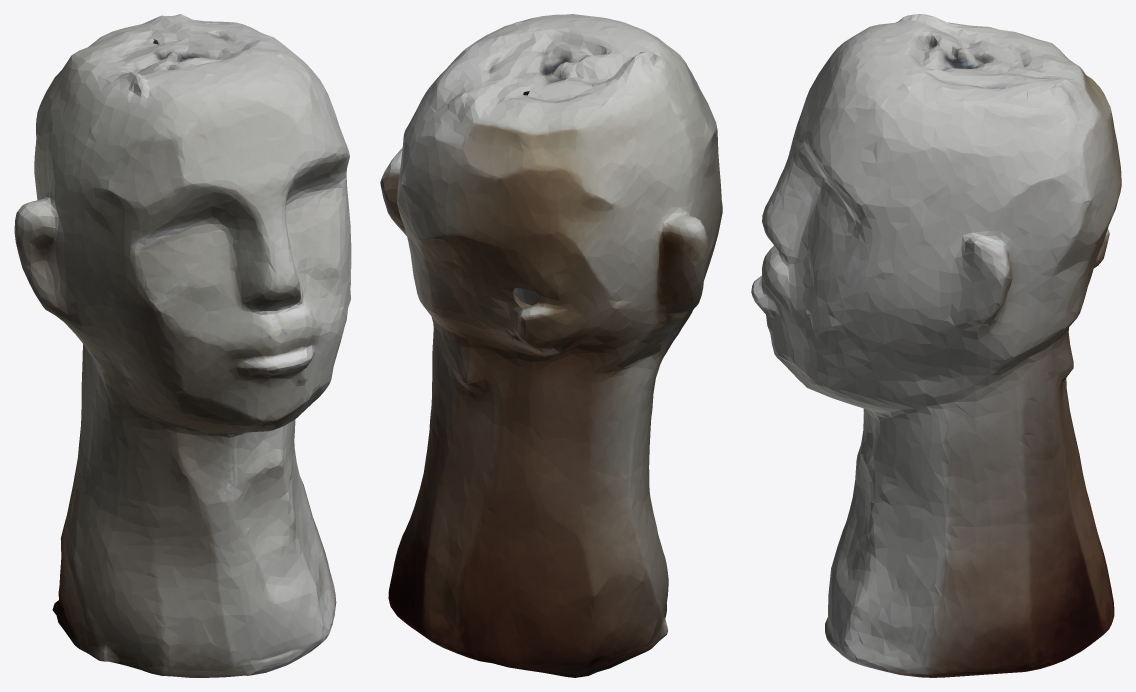
3 views of the same model, side by side, from view 1: azimuth 30°, elevation 25°; view 2: azimuth 150°, elevation 25°; view 3: azimuth 270°, elevation 25° (orthographic). The views are drawn at different scales.
Visible parts, largest first — view 1: world; view 2: world; view 3: world.
Part boxes in pixels (x1,y1,x2,y2): world: (14, 14, 351, 677); world: (380, 14, 722, 677); world: (751, 14, 1121, 677).
Bounding box in the file's own units: 0.4444 × 0.7766 × 0.4499.
Materials: 1 (1 with a texture image).
